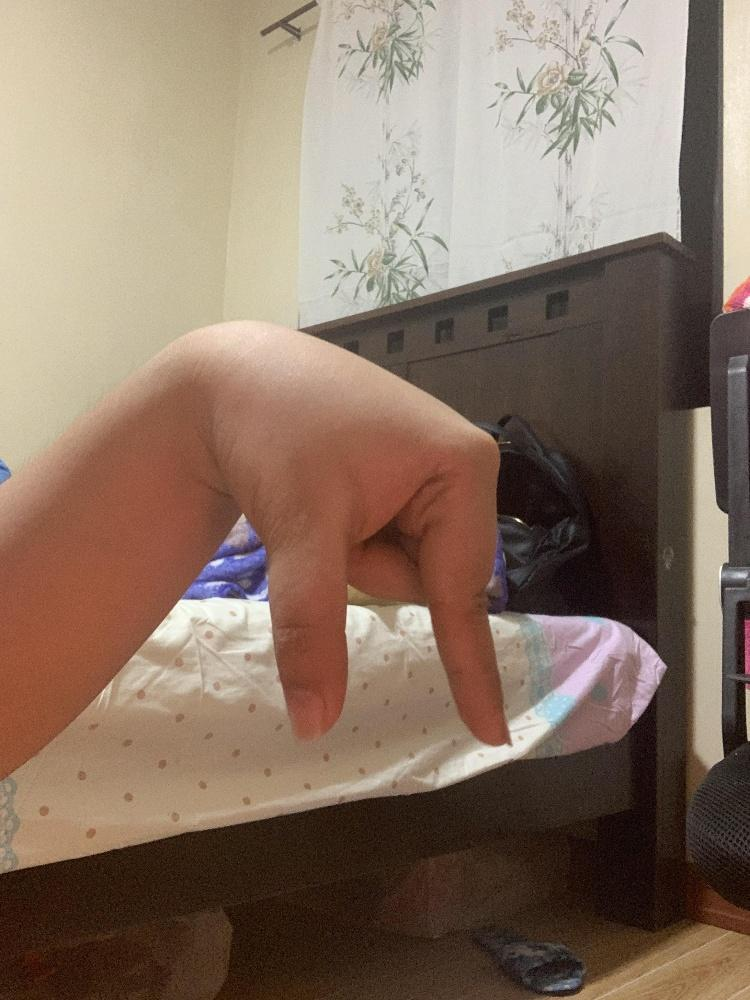q: (234, 303, 523, 749)
